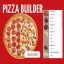pepperoni: (7, 18, 19, 54)
pizza: (2, 15, 40, 55)
